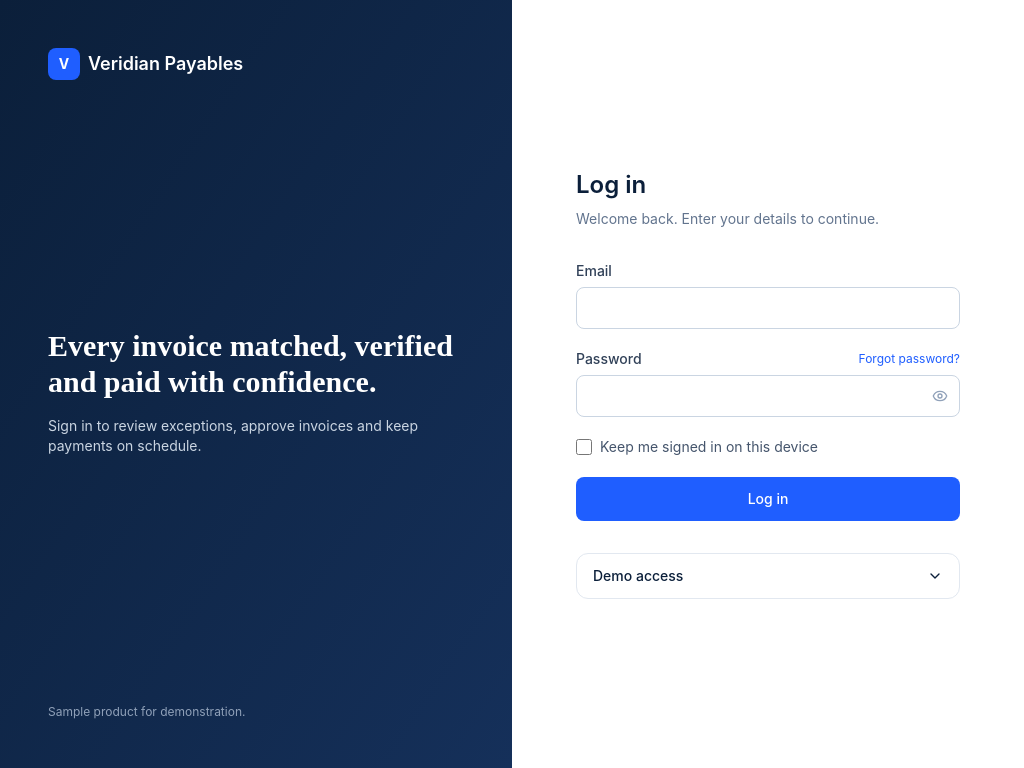
LoginPage › shows the MFA step when the backend requires it
Type "approver@example.com" into the field labelled "Email" at (768, 308), box x1=576 y1=287 x2=960 y2=329
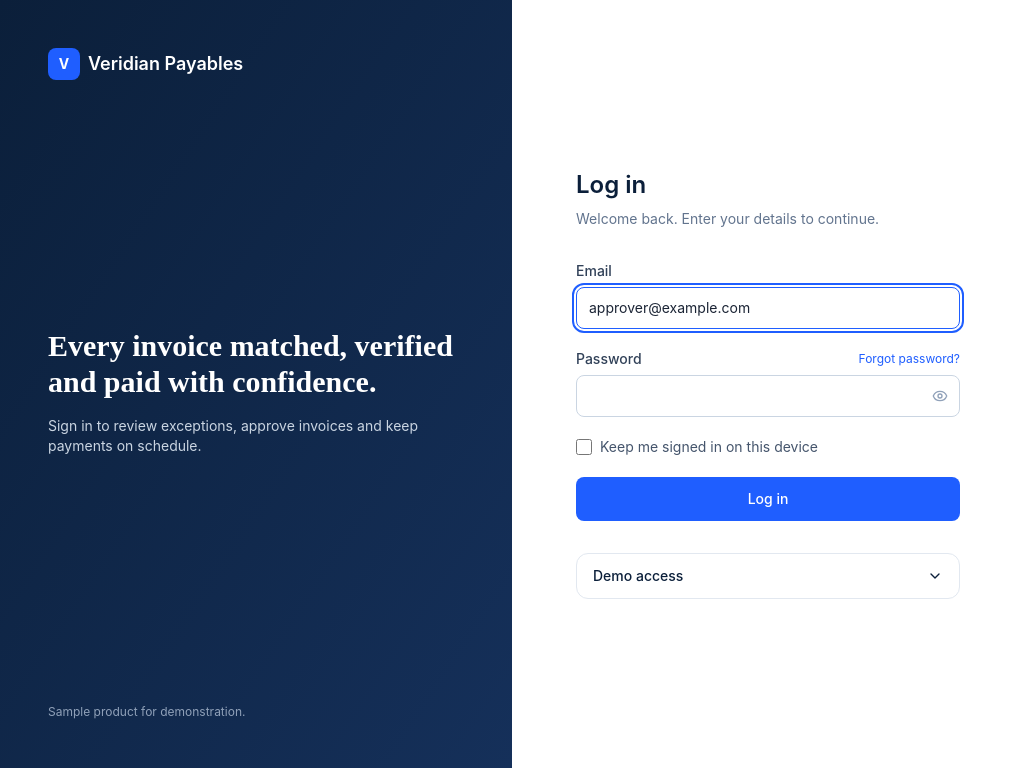
Type "CorrectHorseBattery12" into the password field labelled "Password" at (768, 396), box x1=576 y1=375 x2=960 y2=417
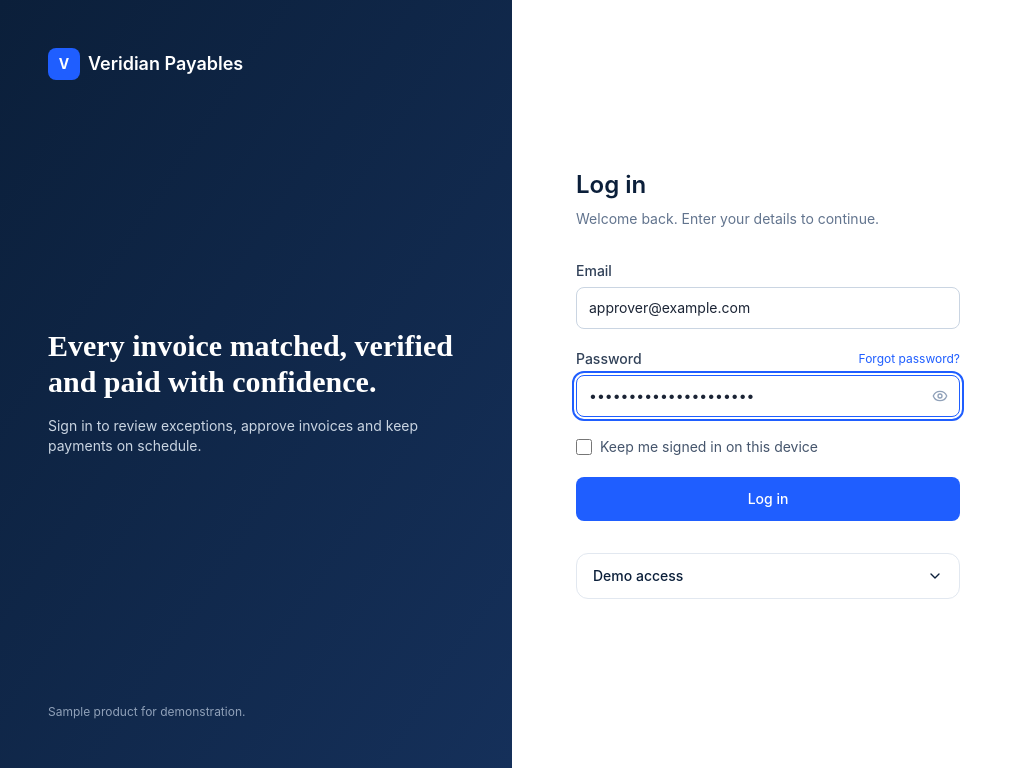
Click the button "Log in" at (768, 499), box x1=576 y1=477 x2=960 y2=521
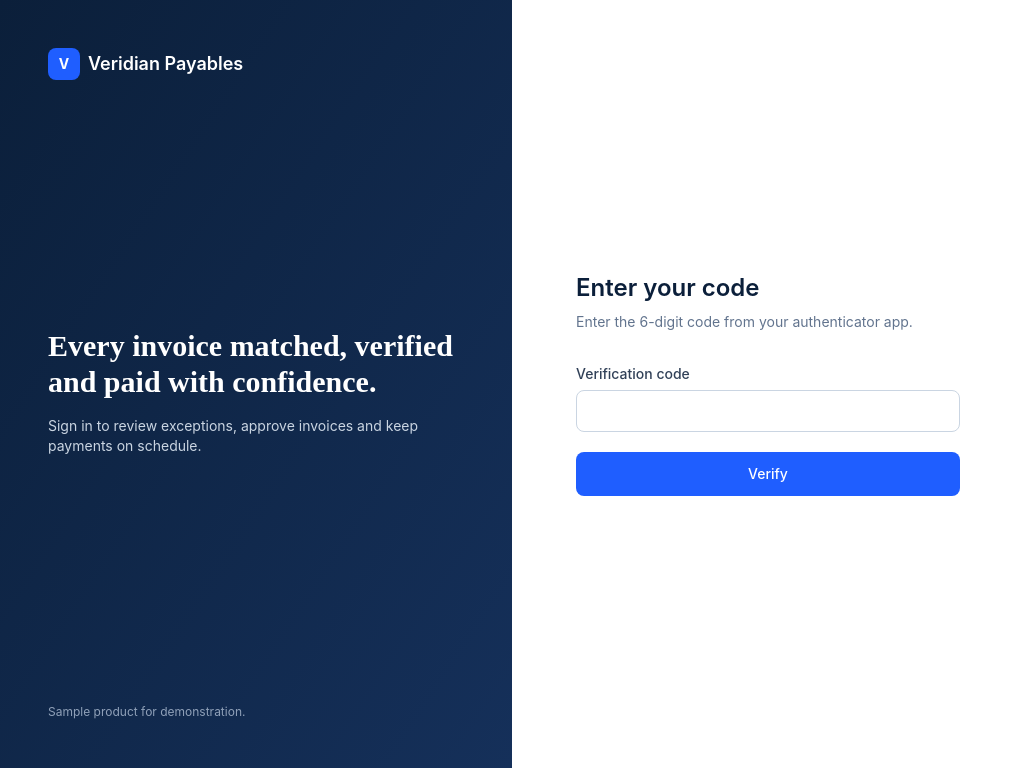
Now the heading "Enter your code" is shown, box x1=576 y1=273 x2=760 y2=302
